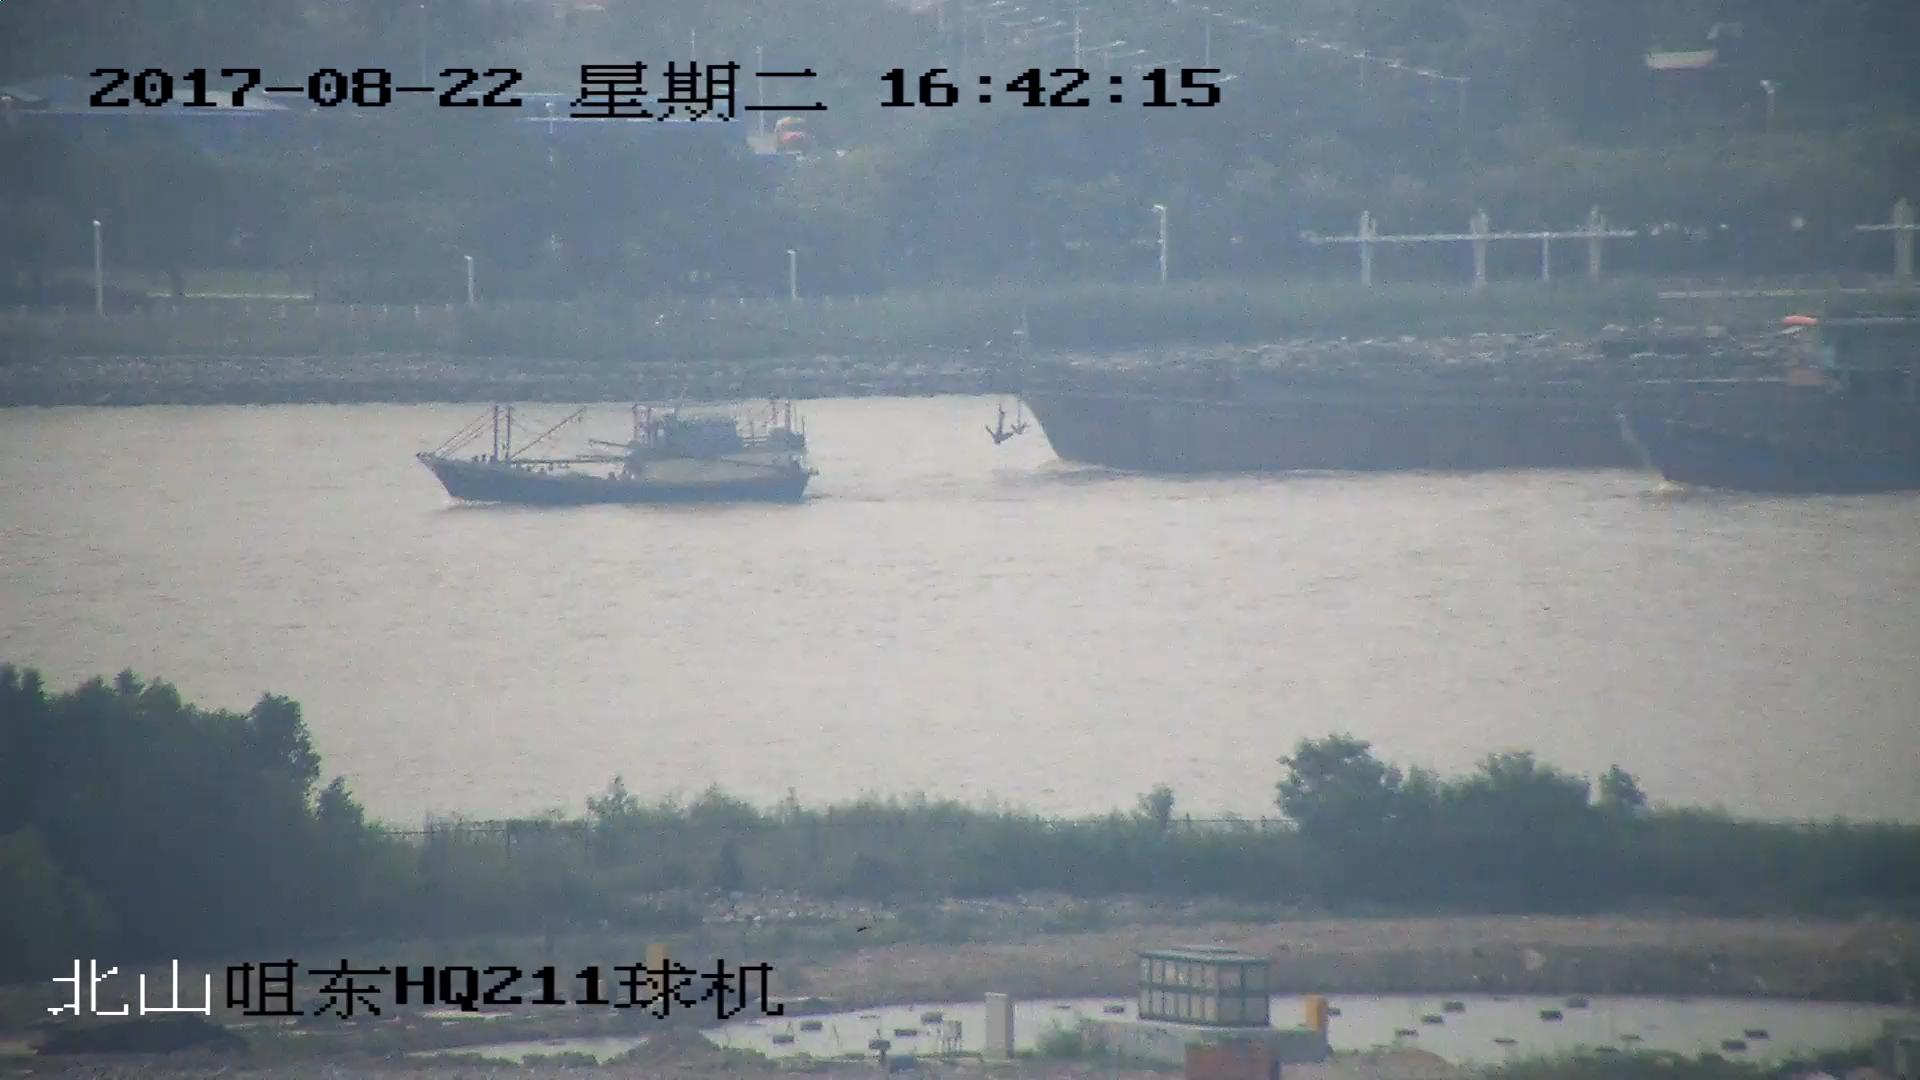bulk cargo carrier: (663, 310, 1920, 476)
fishing boat: (416, 397, 808, 508), (1623, 393, 1920, 498)
